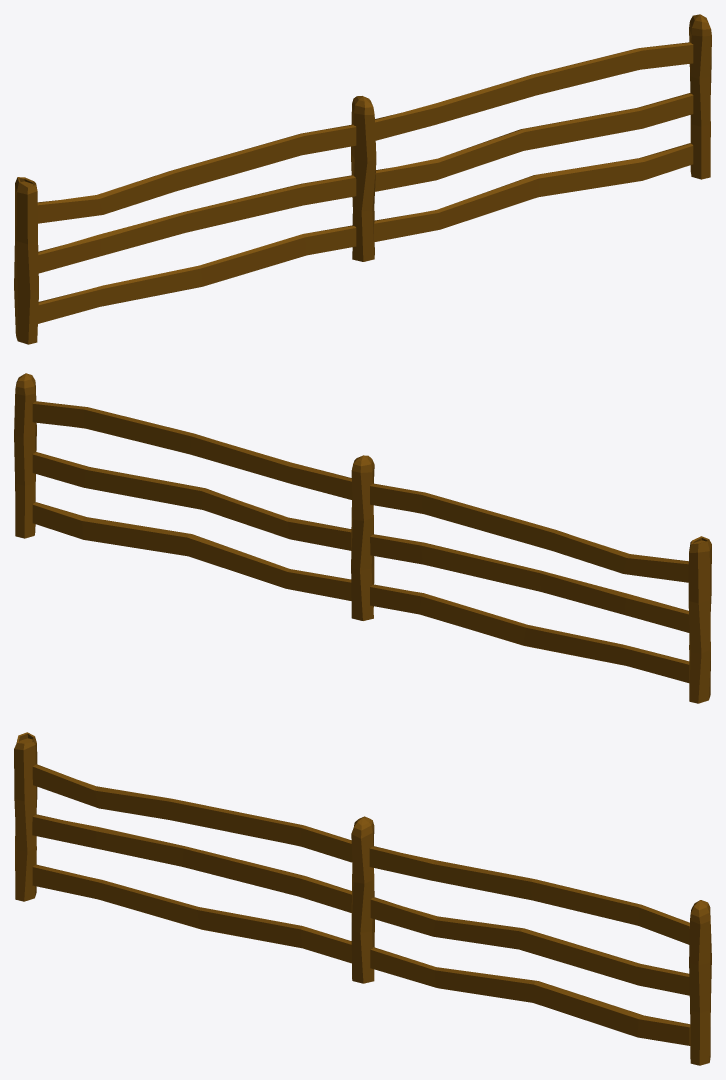
Rendered from Fence 1.fbx.
3 renders of one model, top to bottom at view 1: azimuth 30°, elevation 25°; view 2: azimuth 150°, elevation 25°; view 3: azimuth 330°, elevation 25°, orthographic.
Visible parts, largest first — view 1: Fence fill 2, Fence fill 1, Fence Post 1, Fence Post 2, Fence Post 3; view 2: Fence fill 2, Fence fill 1, Fence Post 1, Fence Post 2, Fence Post 3; view 3: Fence fill 2, Fence fill 1, Fence Post 2, Fence Post 3, Fence Post 1.
Part boxes in pixels (x1=…): Fence fill 2: x1=374, y1=42, x2=693, y2=241; Fence fill 1: x1=37, y1=124, x2=356, y2=323; Fence Post 1: x1=14, y1=177, x2=38, y2=344; Fence Post 2: x1=351, y1=96, x2=376, y2=261; Fence Post 3: x1=689, y1=14, x2=711, y2=179; Fence fill 2: x1=32, y1=401, x2=352, y2=600; Fence fill 1: x1=370, y1=483, x2=689, y2=682; Fence Post 1: x1=688, y1=536, x2=711, y2=703; Fence Post 2: x1=351, y1=455, x2=374, y2=620; Fence Post 3: x1=14, y1=373, x2=36, y2=538; Fence fill 2: x1=369, y1=846, x2=690, y2=1045; Fence fill 1: x1=32, y1=764, x2=352, y2=963; Fence Post 2: x1=351, y1=816, x2=374, y2=983; Fence Post 3: x1=689, y1=900, x2=711, y2=1065; Fence Post 1: x1=14, y1=732, x2=37, y2=901.
Bounding box in the file's own units: 1545 × 341 × 52.96.
